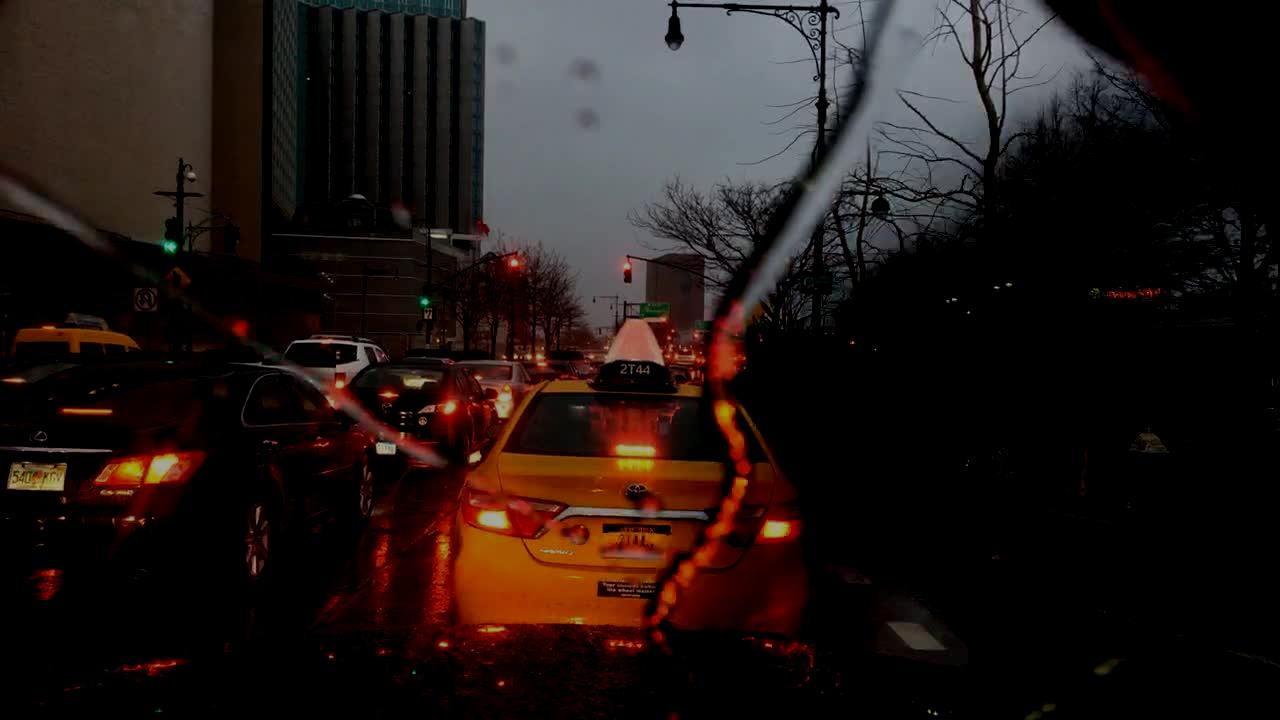Mazda: (376, 399, 399, 414)
Toyota: (617, 479, 661, 505)
lexus: (20, 423, 58, 450)
